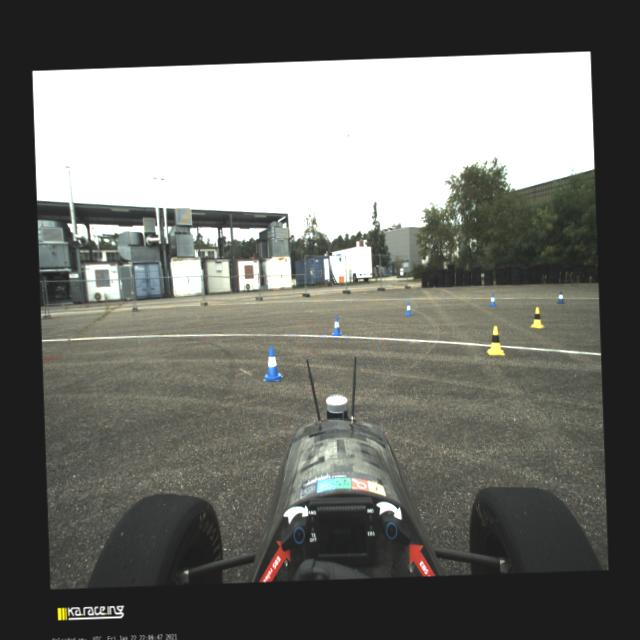blue_cone: (262, 345, 282, 381), (331, 315, 342, 336), (404, 301, 412, 316), (556, 290, 564, 304), (489, 294, 496, 306)
yellow_cone: (486, 326, 505, 356), (529, 306, 544, 328)
